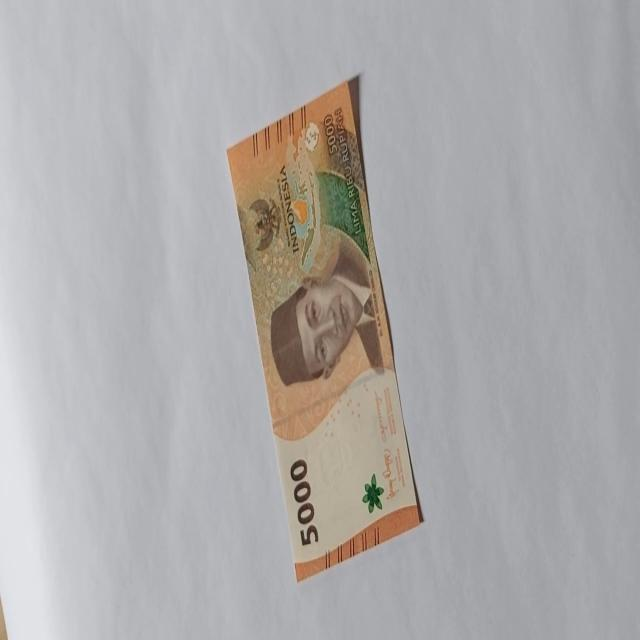lima ribu rupiah: (226, 76, 424, 582)
